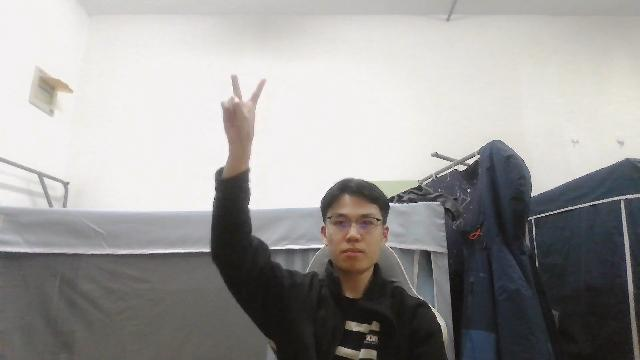two: (220, 72, 267, 143)
